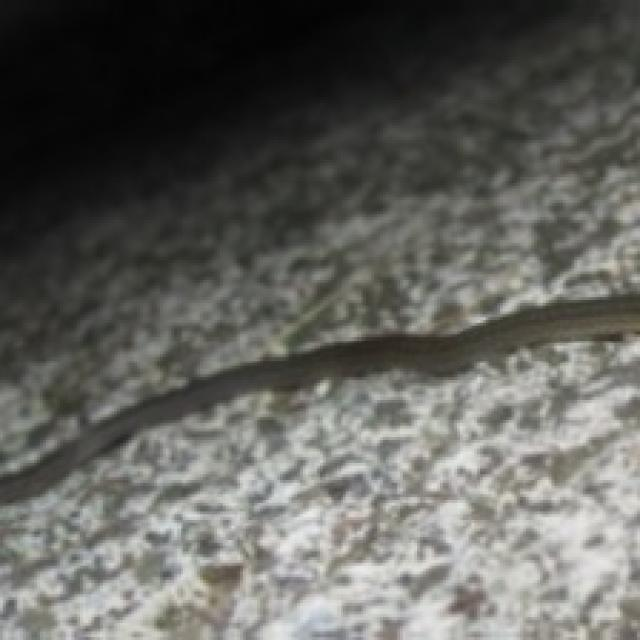gervais worm snake: (0, 294, 637, 503)
